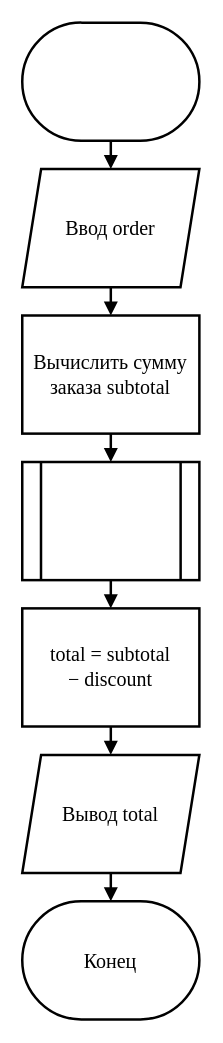
Some shapes in this 223 by 1043 pixel diagram are drawn without their labels. The box of each missing label's shape, as (x1, y1, x2, y2) in pixels:
Начало: (20, 21, 200, 141)
Расчёт скидки: (20, 460, 200, 581)
